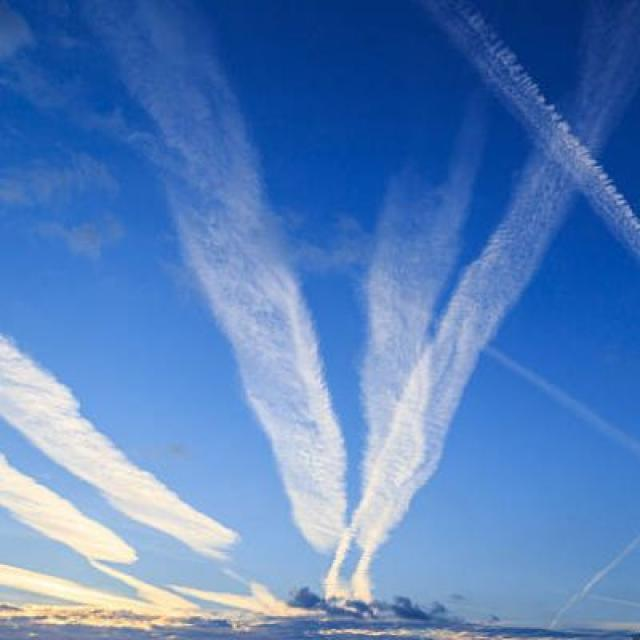Ct: (1, 63, 640, 614)
